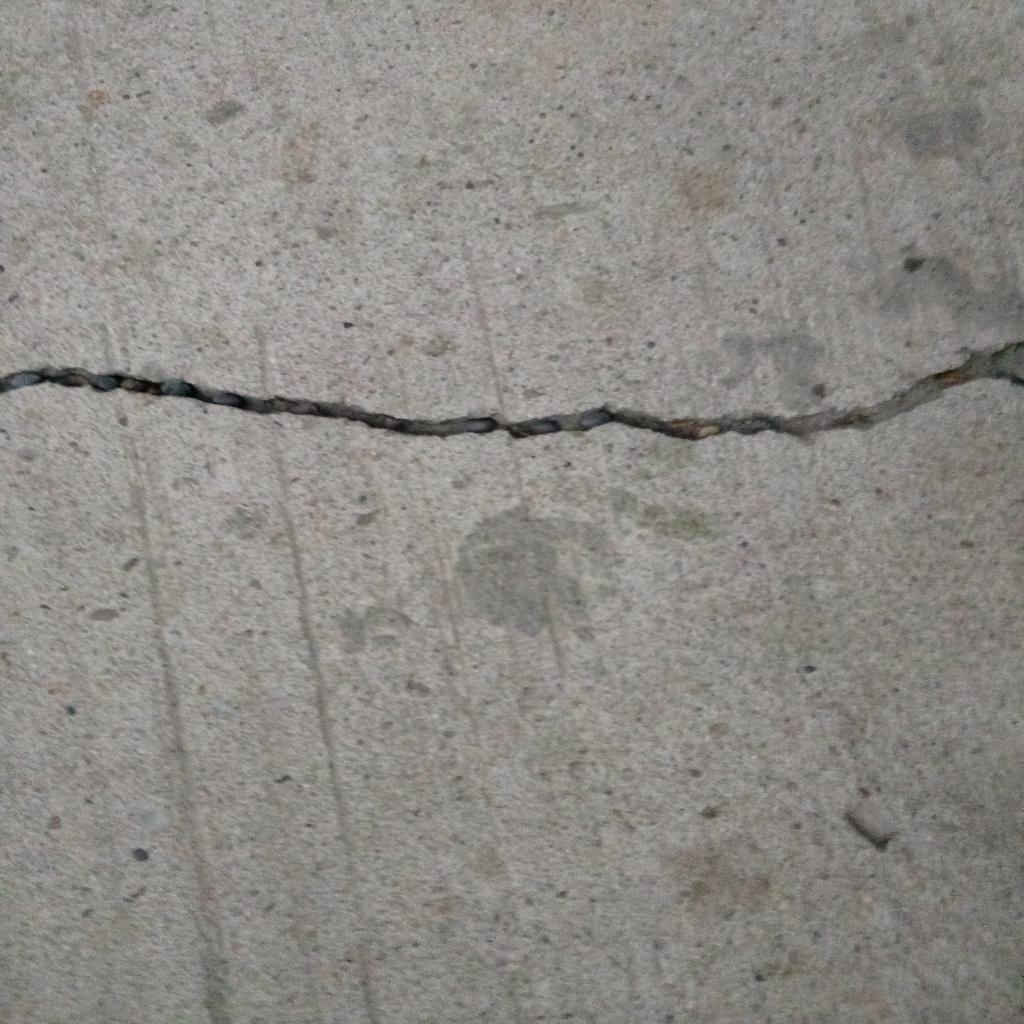Crack: (1, 339, 1024, 443)
Spalling: (844, 802, 901, 852)
